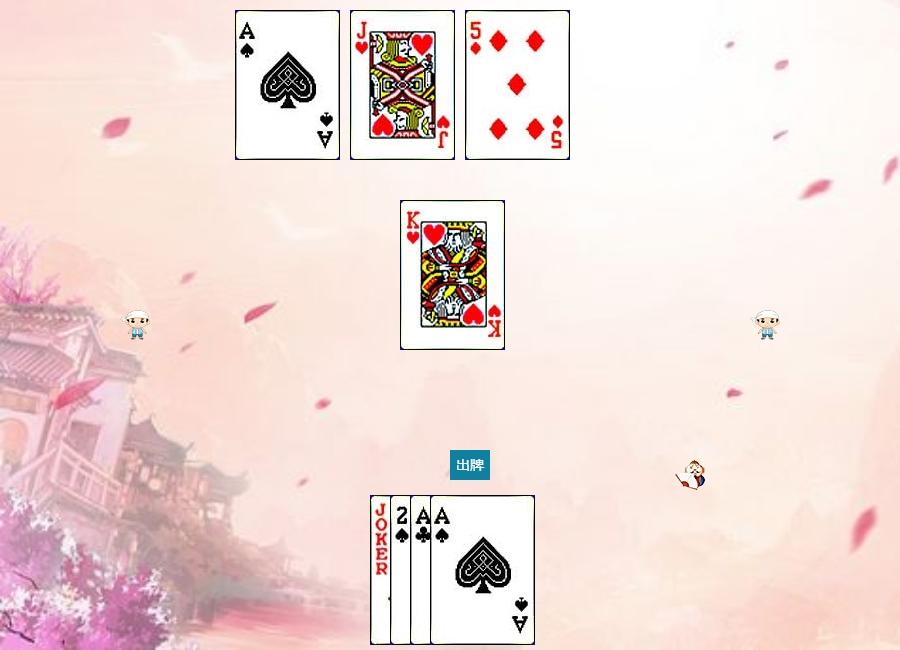11~3: (350, 10, 455, 160)
13~3: (400, 200, 505, 350)
14~2: (410, 495, 515, 645)
14~4: (235, 10, 340, 160), (430, 495, 535, 645)
15~4: (390, 495, 495, 645)
18~4: (370, 495, 475, 645)
5~1: (465, 10, 570, 160)
